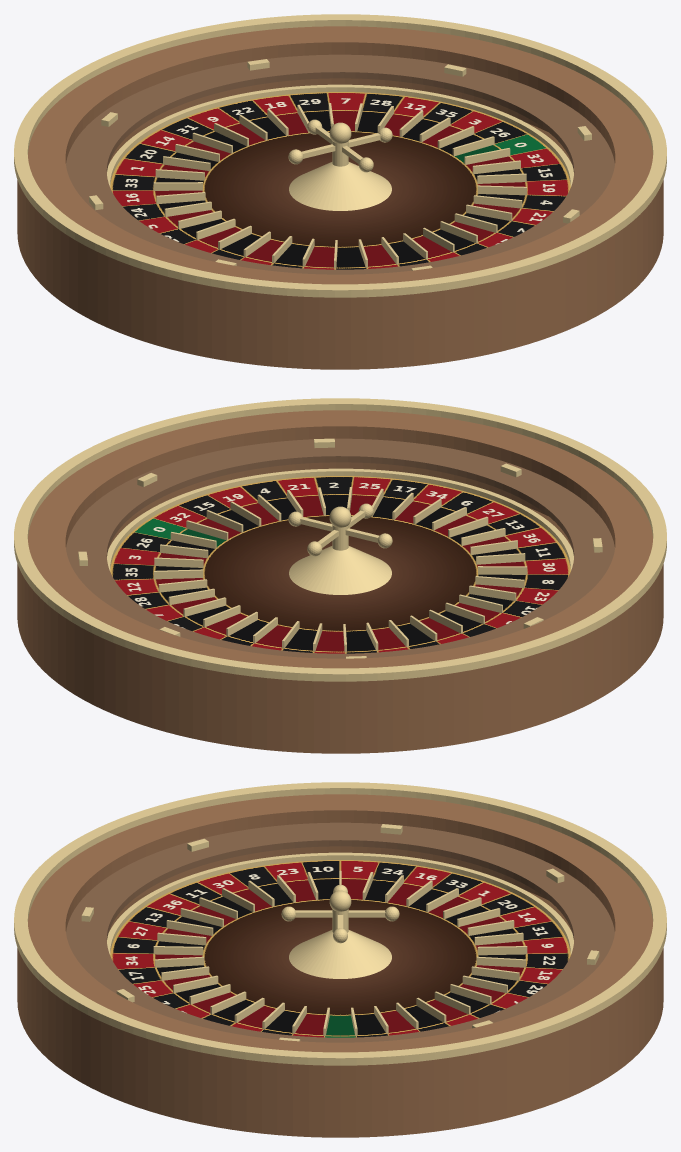
File: wheel.glb
3 renders of one model, top to bottom at view 1: azimuth 30°, elevation 25°; view 2: azimuth 150°, elevation 25°; view 3: azimuth 270°, elevation 25°, orthographic.
Parts seen in each view (by area): view 1: wheel_0, wheel_13, wheel_2, wheel_1, wheel_14, wheel_52, wheel_54; view 2: wheel_0, wheel_13, wheel_2, wheel_1, wheel_14, wheel_52, wheel_54; view 3: wheel_0, wheel_13, wheel_2, wheel_1, wheel_14, wheel_52, wheel_57.
Part boxes in pixels (bbox=[...]): wheel_0: bbox=[17, 26, 663, 369]; wheel_13: bbox=[110, 92, 570, 269]; wheel_2: bbox=[66, 54, 614, 274]; wheel_1: bbox=[14, 14, 666, 297]; wheel_14: bbox=[107, 84, 573, 187]; wheel_52: bbox=[289, 162, 391, 210]; wheel_54: bbox=[301, 133, 380, 158]; wheel_0: bbox=[17, 410, 663, 753]; wheel_13: bbox=[110, 476, 570, 653]; wheel_2: bbox=[66, 438, 614, 658]; wheel_1: bbox=[14, 398, 666, 681]; wheel_14: bbox=[107, 468, 573, 571]; wheel_52: bbox=[289, 546, 391, 594]; wheel_54: bbox=[300, 517, 379, 542]; wheel_0: bbox=[17, 794, 663, 1137]; wheel_13: bbox=[110, 860, 570, 1037]; wheel_2: bbox=[66, 822, 614, 1042]; wheel_1: bbox=[14, 782, 666, 1065]; wheel_14: bbox=[107, 852, 573, 954]; wheel_52: bbox=[289, 930, 391, 978]; wheel_57: bbox=[295, 910, 385, 917].
Size of the model in its own units: 0.95 by 0.176 by 0.95.
11 materials, 1 textured.
